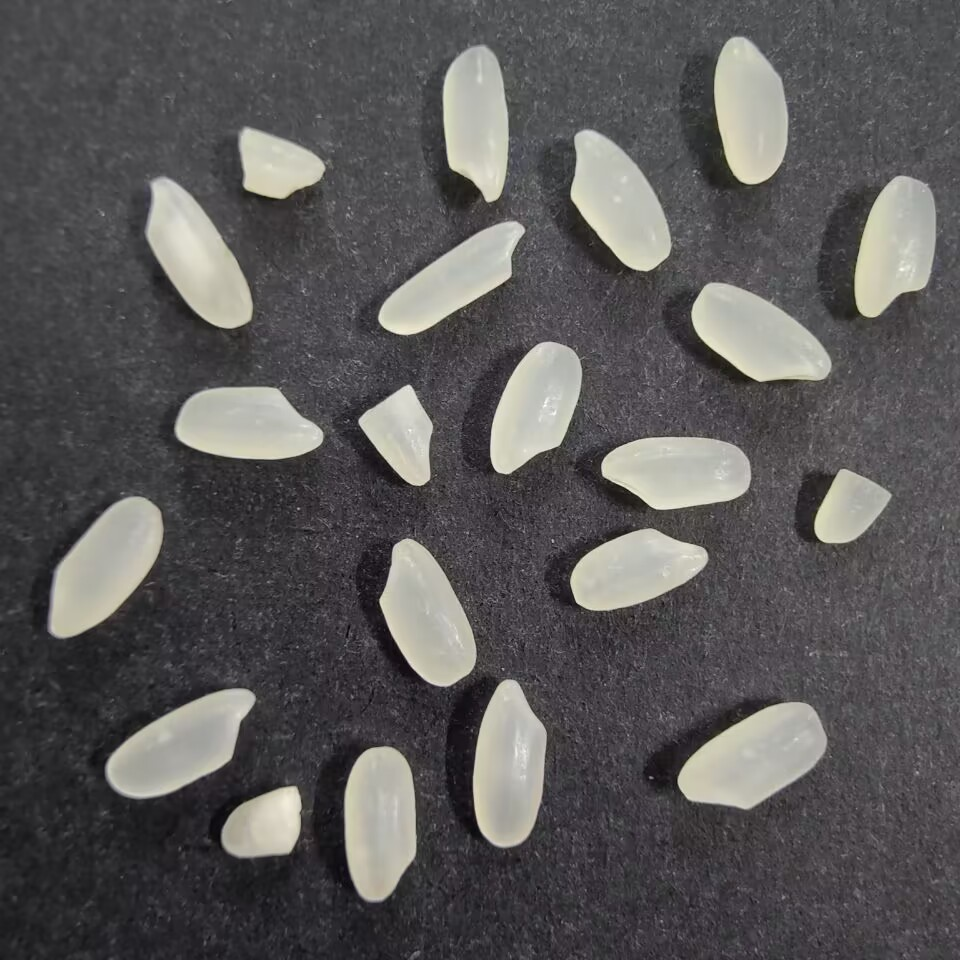broken: (353, 383, 442, 488), (215, 780, 309, 865), (230, 122, 328, 202), (809, 465, 898, 546)
rice: (372, 216, 525, 343), (42, 493, 167, 644), (102, 683, 260, 802), (142, 173, 257, 335), (677, 695, 830, 813), (567, 127, 677, 274), (689, 278, 834, 388), (378, 538, 480, 689), (470, 674, 552, 853), (338, 744, 423, 905), (487, 339, 583, 481), (169, 381, 327, 467), (565, 522, 710, 614), (594, 432, 756, 514), (710, 33, 795, 189), (854, 173, 942, 323), (438, 43, 514, 204)
